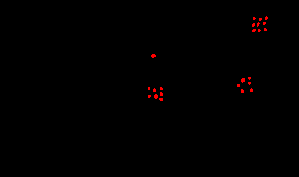Target: (151, 54, 156, 58), (241, 78, 245, 83), (154, 94, 158, 99), (257, 22, 260, 27), (265, 16, 268, 20), (252, 23, 255, 27), (252, 29, 256, 32), (153, 88, 156, 92), (250, 88, 253, 92), (241, 89, 244, 93), (160, 92, 163, 96), (159, 98, 163, 101), (253, 17, 256, 20), (259, 18, 262, 21), (263, 22, 266, 25), (264, 28, 267, 31), (258, 29, 261, 32), (248, 77, 251, 80), (248, 82, 251, 85), (237, 84, 240, 87), (160, 87, 163, 90), (148, 95, 151, 98), (148, 87, 150, 90)
